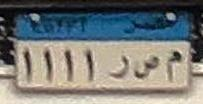1: (20, 44, 36, 85), (40, 46, 56, 81), (61, 47, 76, 83), (82, 47, 95, 86)
meem: (164, 48, 183, 84)
raa: (105, 52, 130, 80)
saad: (131, 53, 161, 82)
